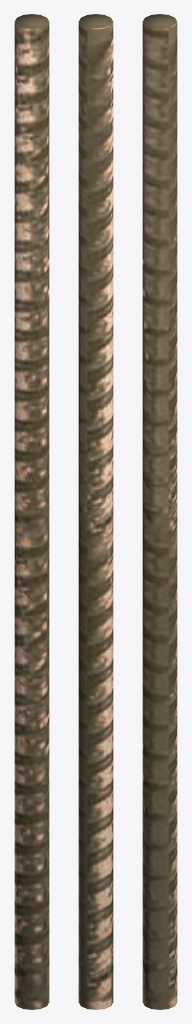
Rendered from Steam_Staff.fbx.
3 renders of one model, left to right at view 1: azimuth 90°, elevation 25°; view 2: azimuth 210°, elevation 25°; view 3: azimuth 270°, elevation 25°, orthographic.
Visible parts, largest first — view 1: Steam_Staff; view 2: Steam_Staff; view 3: Steam_Staff.
Boxes of the visible parts, x1,y1,x2,y2 form: Steam_Staff: (14,14,49,1009); Steam_Staff: (78,14,113,1009); Steam_Staff: (142,14,177,1009).
Size of the model in its own units: 0.3021 by 9.52 by 0.3021.
